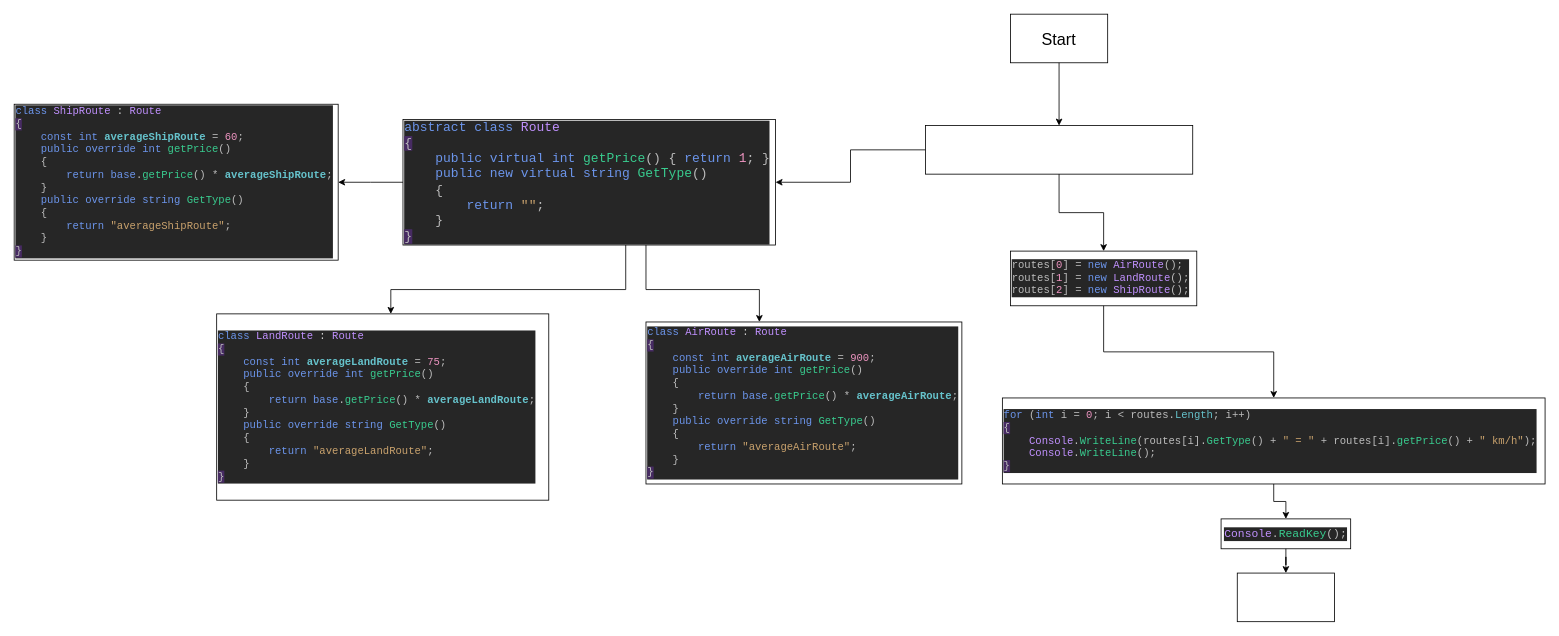
Image size: 1559x636. Some labels were removed from this diagram. Here are the shapes that lost their labels. From the top down, the box of each, then its label:
(925, 125, 1193, 174): Route [] routes = new Route [ 3 ];
(1236, 572, 1334, 622): End
